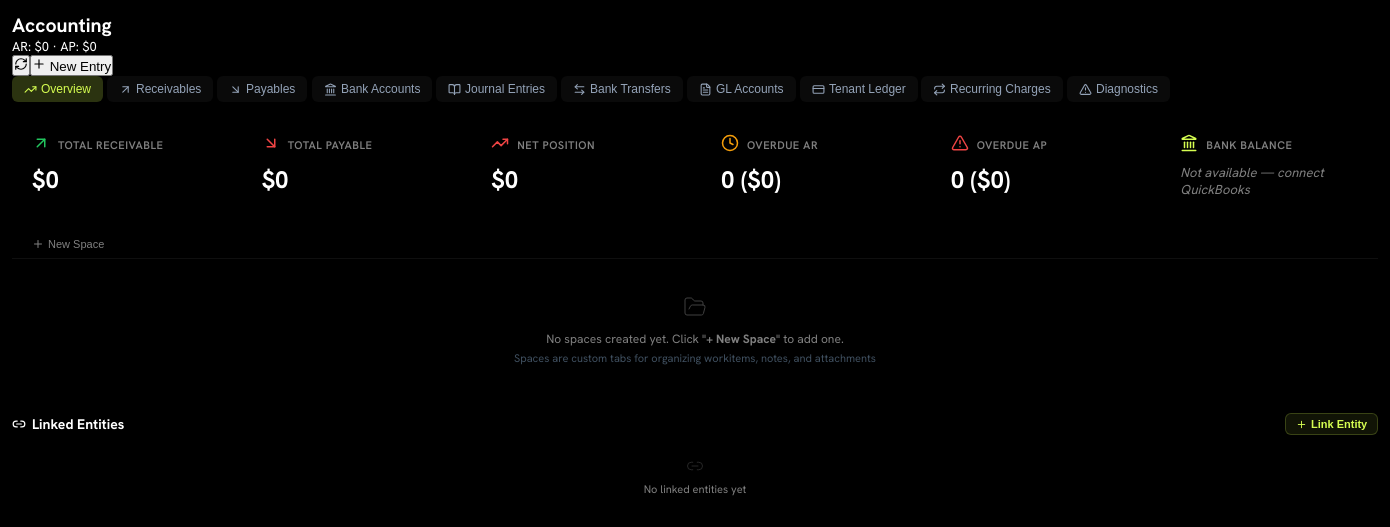
Test: AccountingModule · empty account → honest empty states, never the old hardcoded arrays › Diagnostics: honest "nothing to diagnose", none of the invented sentences
Click the button "Diagnostics" at (1118, 89), box [1067,76,1170,102]
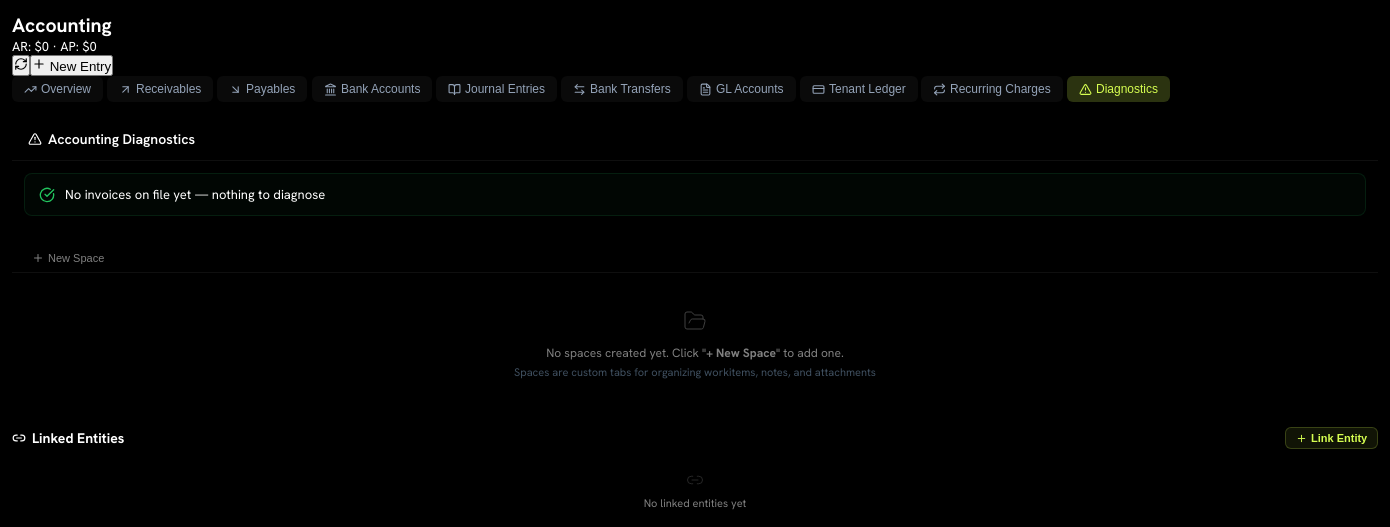
Expected: the text "No invoices on file yet — nothing to diagnose" is shown, [65,186,325,203]
